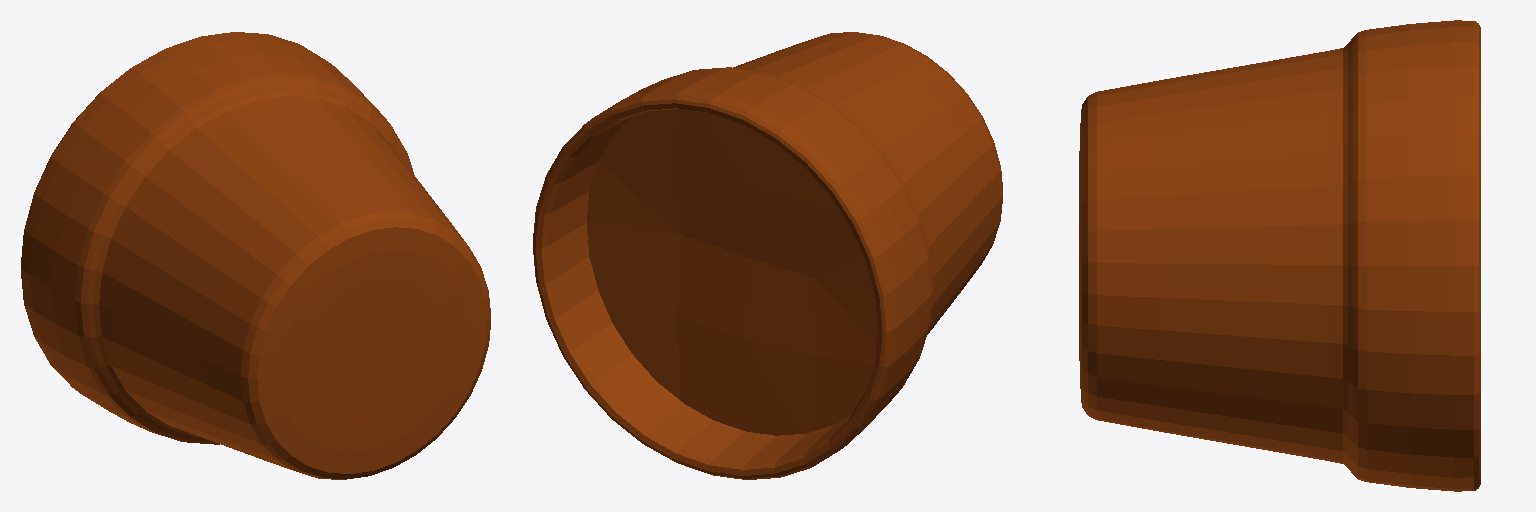
robot.urdf — flowerpot:
<?xml version="1.0" ?>
<robot name="flowerpot">
  <link name="base">

    <inertial>
      <origin xyz="0 0 0"/>
      <mass value="1.0"/>
      <inertia ixx="0.01" iyy="0.01" izz="0.01"
               ixy="0.0" ixz="0.0" iyz="0.0"/>
    </inertial>

    <visual>
      <origin xyz="0 0 0" rpy="0 0 0"/>
      <geometry>
        <mesh filename="flowerpot.obj" scale="0.5 0.5 0.5"/>
      </geometry>
      <material name="pot_color">
        <color rgba="0.6 0.3 0.1 1"/>
      </material>
    </visual>

    <collision>
    <geometry>
      <box size="0.2 0.2 0.3"/>
    </geometry>
  </collision>

  </link>
</robot>

--- Facts derived from the render (not from the file) ---
Views: 3 orthographic renders of the robot side by side, from view 1: azimuth 30°, elevation 25°; view 2: azimuth 150°, elevation 25°; view 3: azimuth 270°, elevation 25°.
Robot: flowerpot — 1 links, 0 joints (none); root link base; default pose: all joints at 0.
Links seen in each view (by area): view 1: base; view 2: base; view 3: base.
Boxes of the visible links, x1,y1,x2,y2 form: base: (21, 32, 490, 479); base: (533, 32, 1002, 479); base: (1079, 20, 1480, 491).
Size in the robot's own frame: 0.01 by 0.0085 by 0.01 metres.
1 mesh visuals loaded from 1 distinct referenced files (1 OBJ).
